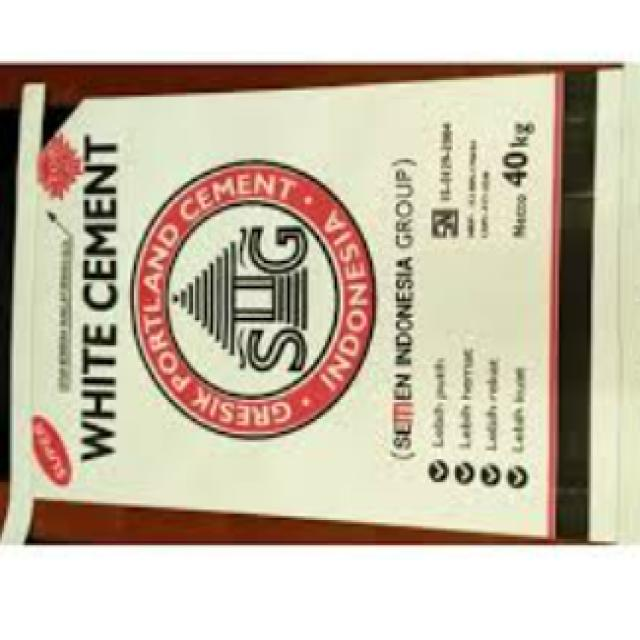KantongSemen: (8, 70, 626, 540)
